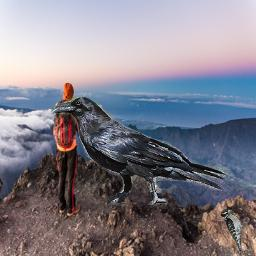Crow: (51, 96, 235, 208)
Woodpecker: (221, 209, 248, 252)
